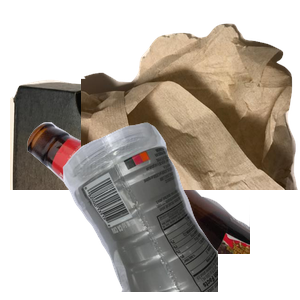cardboard: (10, 77, 245, 257)
glass: (25, 120, 265, 300)
plastic: (60, 120, 300, 300)
trash: (81, 21, 300, 201)
